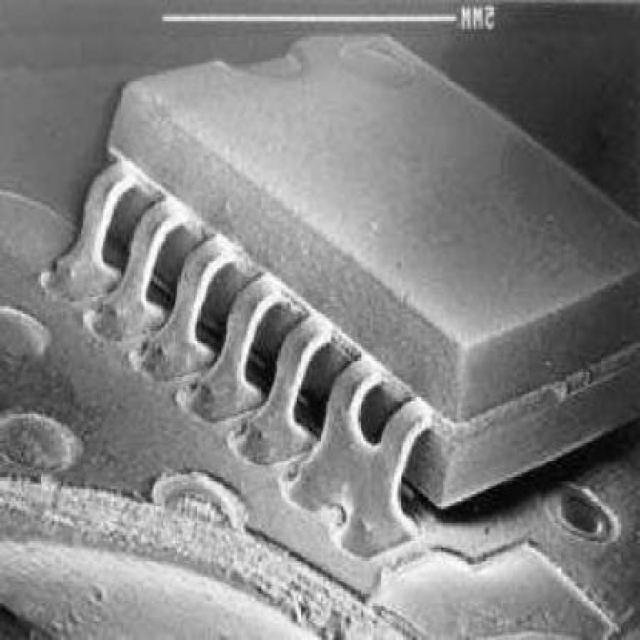Soldering shorted: (286, 353, 428, 555)
